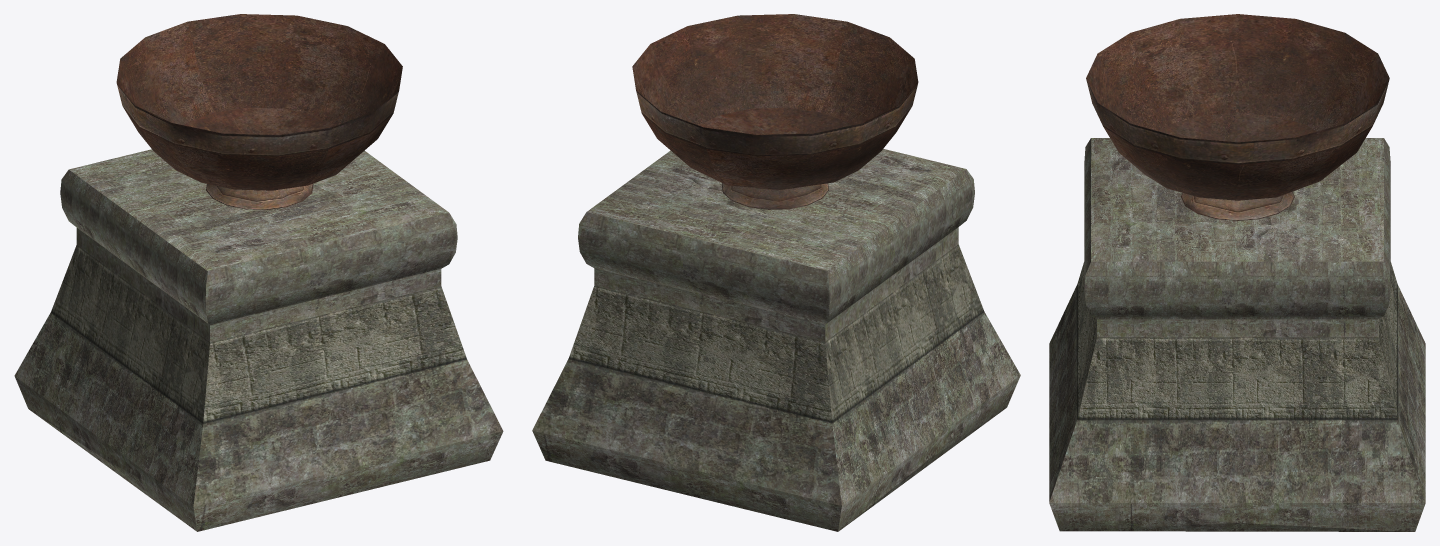
The model's file is fireholder.dae.
3 views of the same model, side by side, from view 1: azimuth 30°, elevation 25°; view 2: azimuth 150°, elevation 25°; view 3: azimuth 270°, elevation 25° (orthographic). The views are drawn at different scales.
Parts seen in each view (by area): view 1: Default_Layer; view 2: Default_Layer; view 3: Default_Layer.
Part boxes in pixels (x1=…): Default_Layer: x1=14, y1=14, x2=503, y2=531; Default_Layer: x1=532, y1=14, x2=1020, y2=531; Default_Layer: x1=1049, y1=14, x2=1425, y2=531.
Size of the model in its own units: 1.88 by 2.09 by 1.88.
